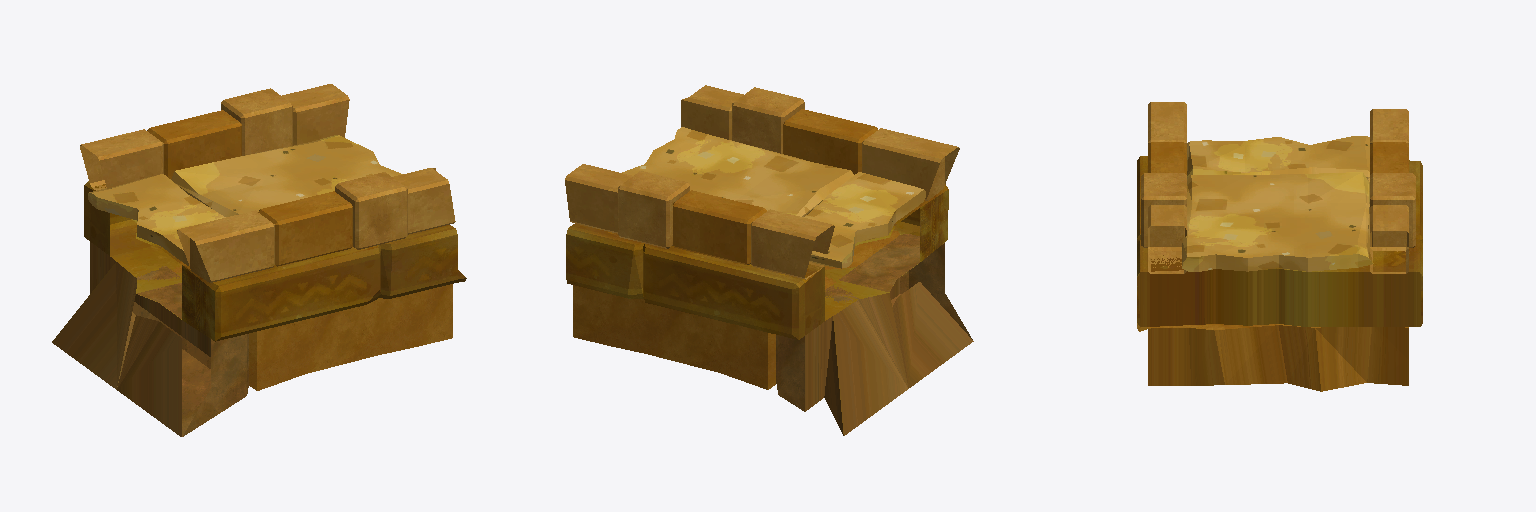
3 views of the same model, side by side, from view 1: azimuth 30°, elevation 25°; view 2: azimuth 150°, elevation 25°; view 3: azimuth 270°, elevation 25° (orthographic).
Visible parts, largest first — view 1: pCube1201__Stone02_AI, pCube1066__Relief00_AI, pCube822__Stone05_AI, polySurface4241__Stone01_AI, polySurface4637__Stone04_AI; view 2: polySurface4241__Stone01_AI, pCube1201__Stone02_AI, pCube822__Stone05_AI, pCube1066__Relief00_AI, polySurface4637__Stone04_AI; view 3: polySurface4637__Stone04_AI, pCube1066__Relief00_AI, pCube822__Stone05_AI, pCube1201__Stone02_AI.
Part boxes in pixels (x1,y1,x2,y2): pCube1201__Stone02_AI: (80, 84, 455, 282); pCube1066__Relief00_AI: (84, 181, 466, 341); pCube822__Stone05_AI: (147, 110, 452, 390); polySurface4241__Stone01_AI: (52, 242, 248, 436); polySurface4637__Stone04_AI: (88, 135, 402, 265); polySurface4241__Stone01_AI: (776, 234, 973, 435); pCube1201__Stone02_AI: (565, 85, 959, 279); pCube822__Stone05_AI: (573, 109, 899, 389); pCube1066__Relief00_AI: (566, 184, 948, 339); polySurface4637__Stone04_AI: (622, 127, 925, 268); polySurface4637__Stone04_AI: (1182, 136, 1373, 271); pCube1066__Relief00_AI: (1137, 156, 1422, 331); pCube822__Stone05_AI: (1148, 142, 1408, 391); pCube1201__Stone02_AI: (1141, 102, 1415, 273).
Bounding box in the file's own units: 5.32 × 3.61 × 4.71.
5 materials, 5 textured.